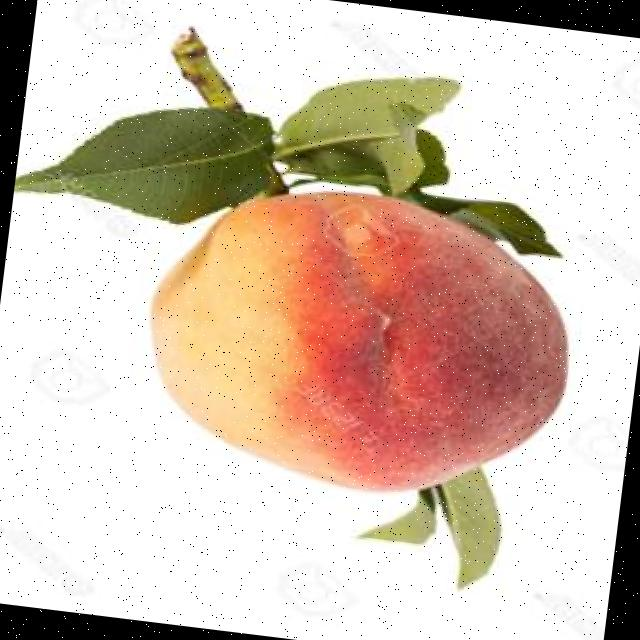peach: (14, 28, 564, 584)
